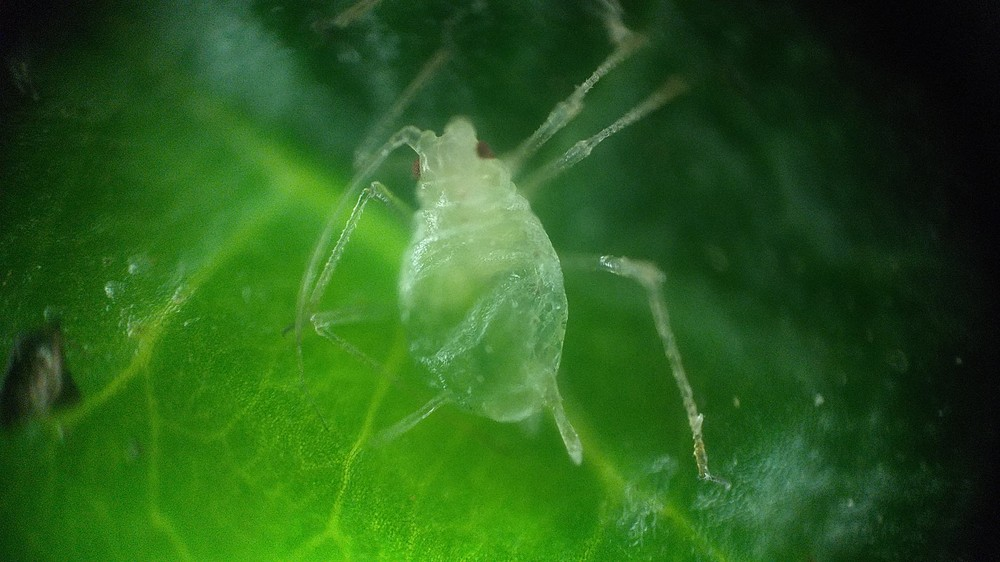Pulgon: (273, 26, 752, 489)
